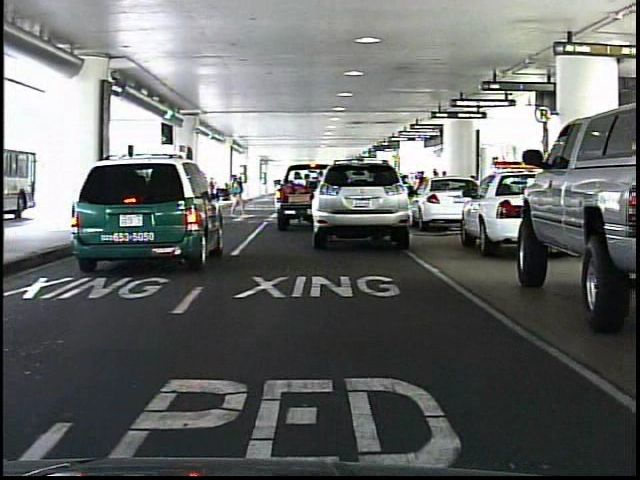person: (226, 168, 250, 222)
